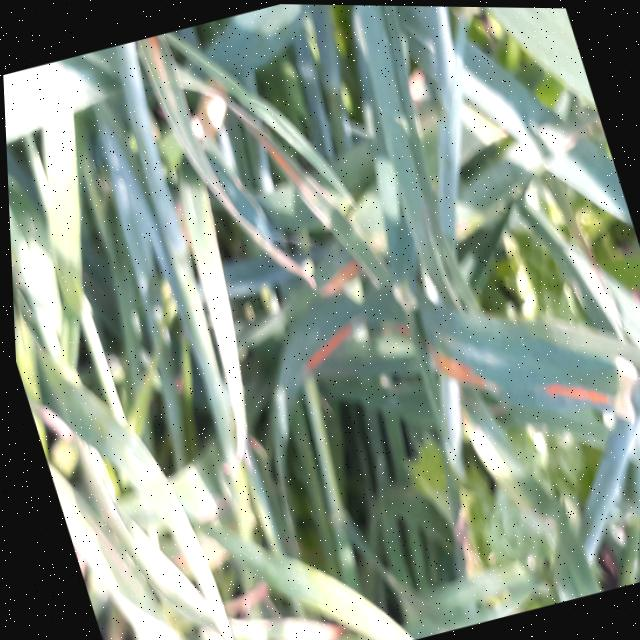yellow_rust: (90, 1, 640, 624)
